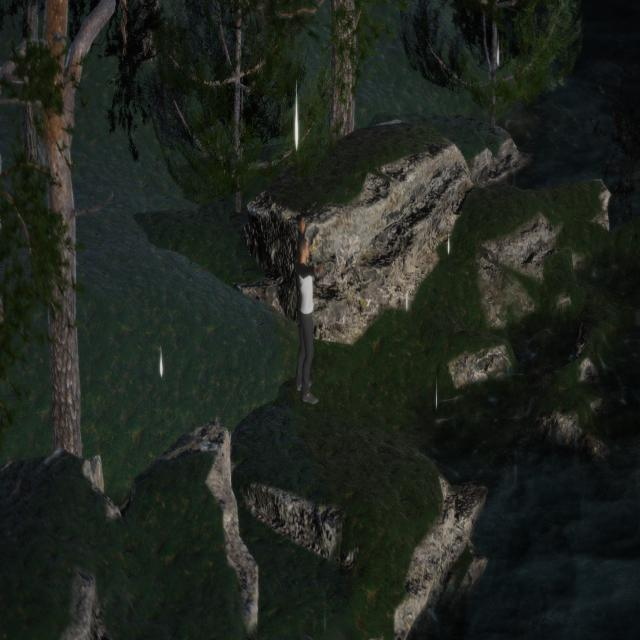Human: (289, 218, 326, 414)
